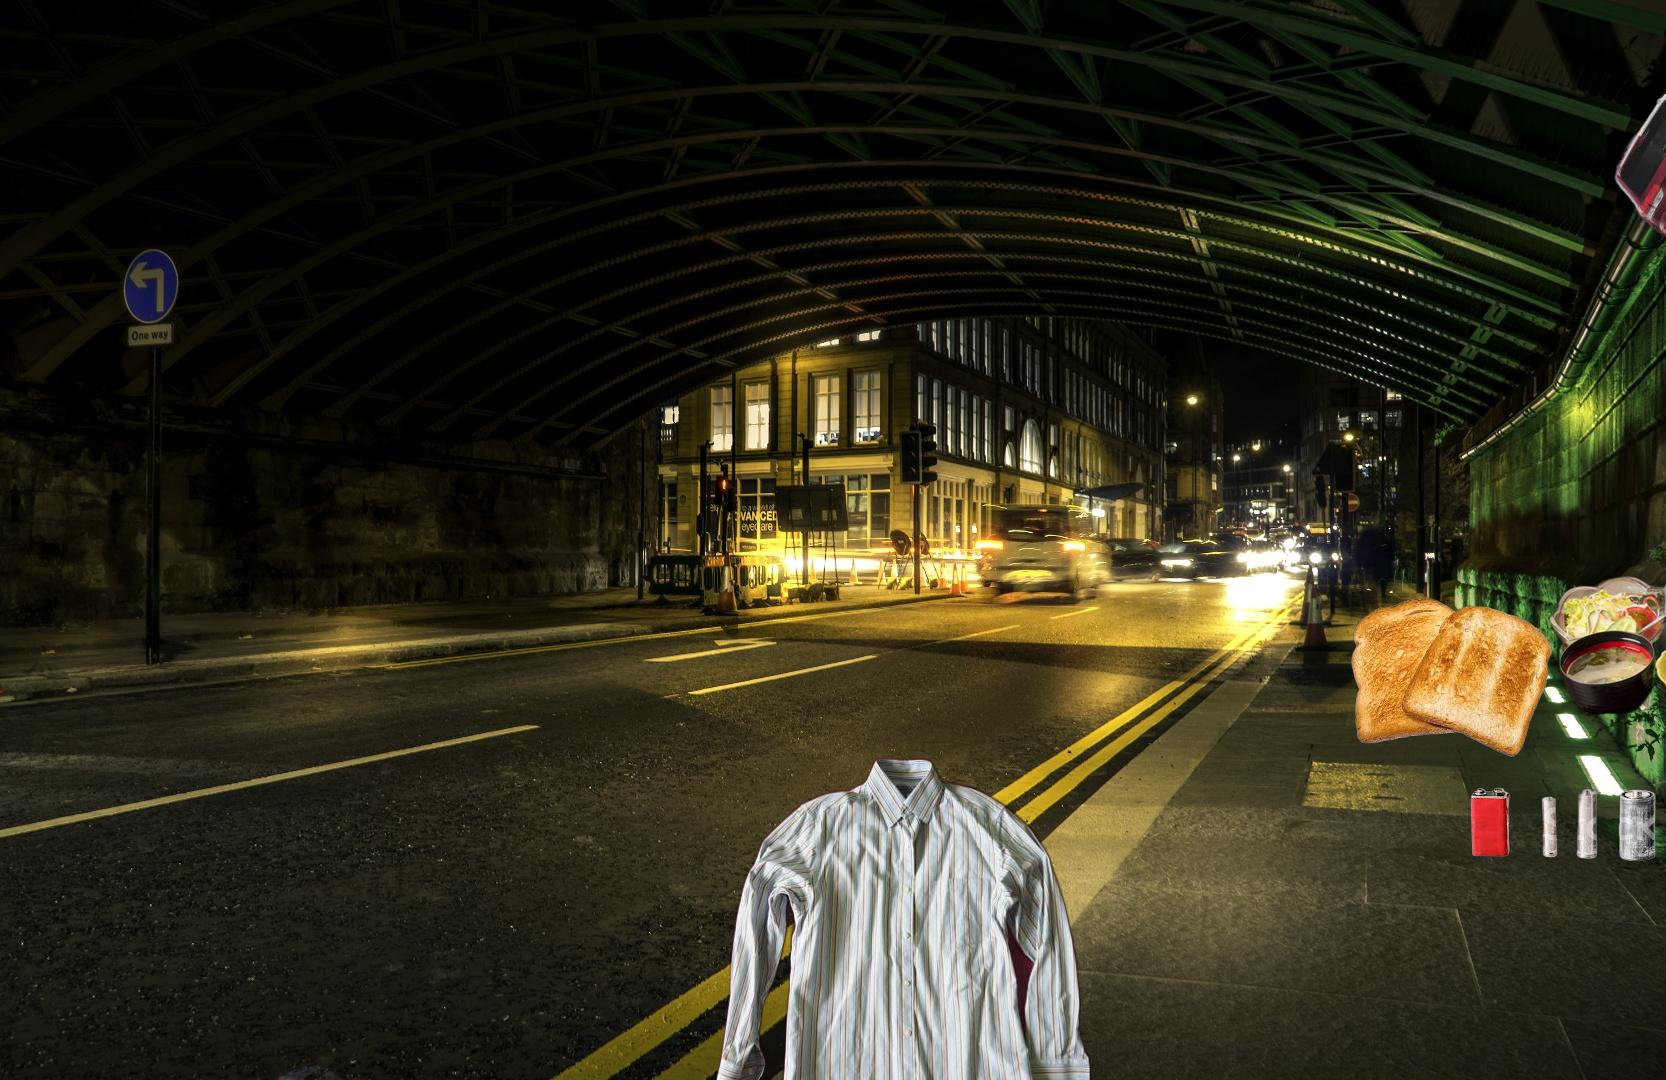battery: (1468, 769, 1666, 866)
biological: (1537, 535, 1666, 807), (1348, 595, 1555, 760), (221, 1053, 508, 1080)
clothes: (710, 754, 1098, 1080)
paper: (1600, 77, 1666, 268)
